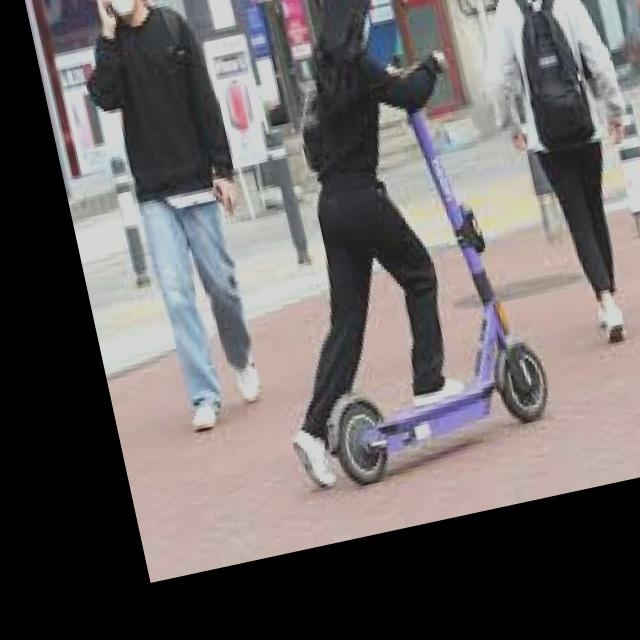bare_head: (306, 1, 417, 63)
human: (273, 0, 459, 411)
kickboard: (309, 351, 556, 484)
